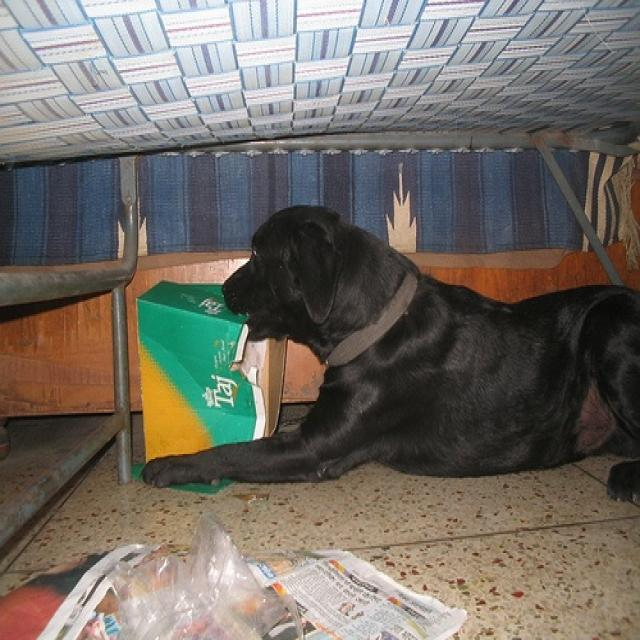dog: (136, 205, 638, 500)
